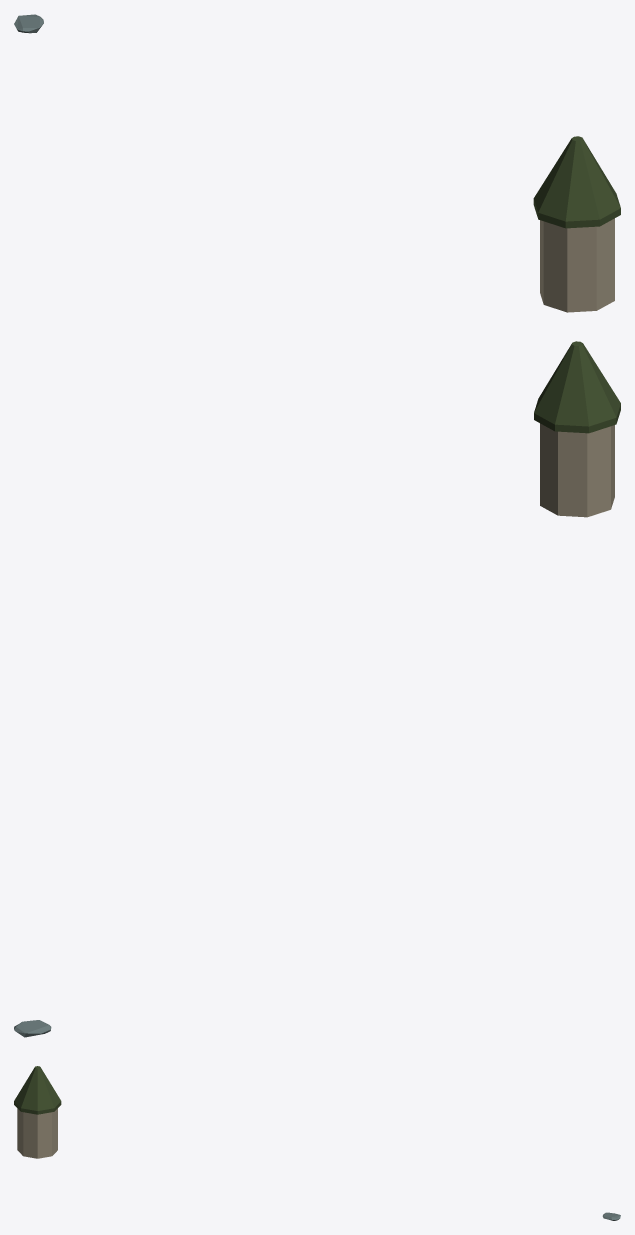
The picture shows the model from 3 angles, top to bottom: view 1: azimuth 30°, elevation 25°; view 2: azimuth 150°, elevation 25°; view 3: azimuth 270°, elevation 25°; orthographic projection. The views are drawn at different scales.
Visible parts, largest first — view 1: Cylinder1742_wall3_0, Cylinder1743_roof1_0, Box880_rock_0; view 2: Cylinder1742_wall3_0, Cylinder1743_roof1_0; view 3: Cylinder1742_wall3_0, Cylinder1743_roof1_0.
Boxes of the visible parts, bbox=[...] form: Cylinder1742_wall3_0: bbox=[540, 218, 614, 312]; Cylinder1743_roof1_0: bbox=[533, 136, 620, 228]; Box880_rock_0: bbox=[14, 14, 43, 33]; Cylinder1742_wall3_0: bbox=[540, 423, 614, 517]; Cylinder1743_roof1_0: bbox=[534, 341, 620, 433]; Cylinder1742_wall3_0: bbox=[17, 1108, 57, 1158]; Cylinder1743_roof1_0: bbox=[14, 1066, 61, 1114].
Size of the model in its own units: 372 by 1312 by 4767.
